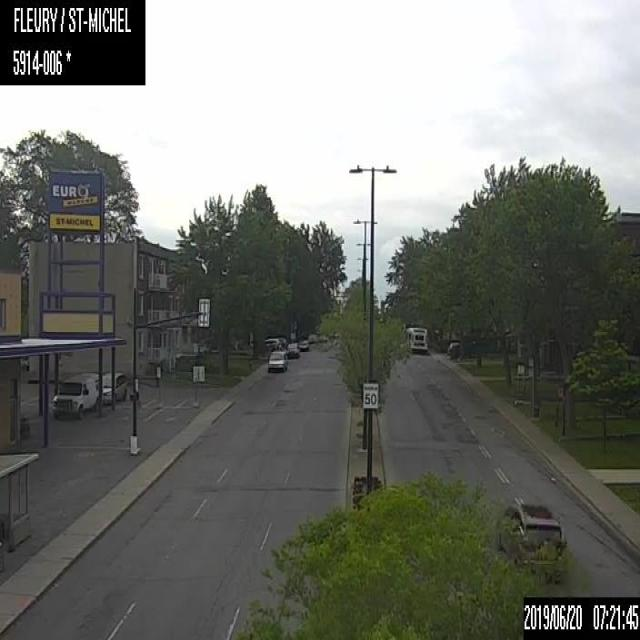bus: (407, 324, 428, 352)
vehicle: (496, 503, 564, 569), (51, 372, 98, 419), (101, 371, 126, 404), (268, 349, 286, 371), (286, 342, 299, 358), (262, 337, 279, 348), (447, 341, 459, 353), (298, 339, 308, 350)
